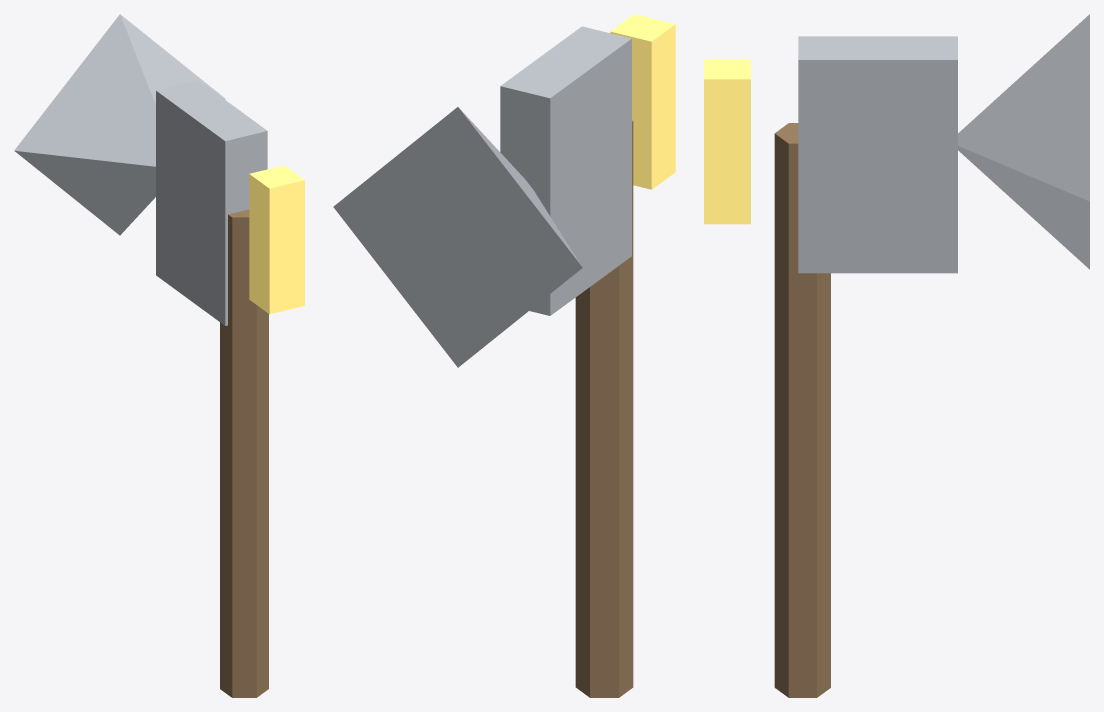
File: axe.glb
3 views of the same model, side by side, from view 1: azimuth 30°, elevation 25°; view 2: azimuth 150°, elevation 25°; view 3: azimuth 270°, elevation 25° (orthographic). The views are drawn at different scales.
Parts seen in each view (by area): view 1: AxeHandle; view 2: AxeHandle; view 3: AxeHandle.
Boxes of the visible parts, bbox=[...] form: AxeHandle: bbox=[14, 14, 304, 697]; AxeHandle: bbox=[333, 14, 675, 697]; AxeHandle: bbox=[704, 14, 1089, 697].
Size of the model in its own units: 0.6 by 1.58 by 0.82.
